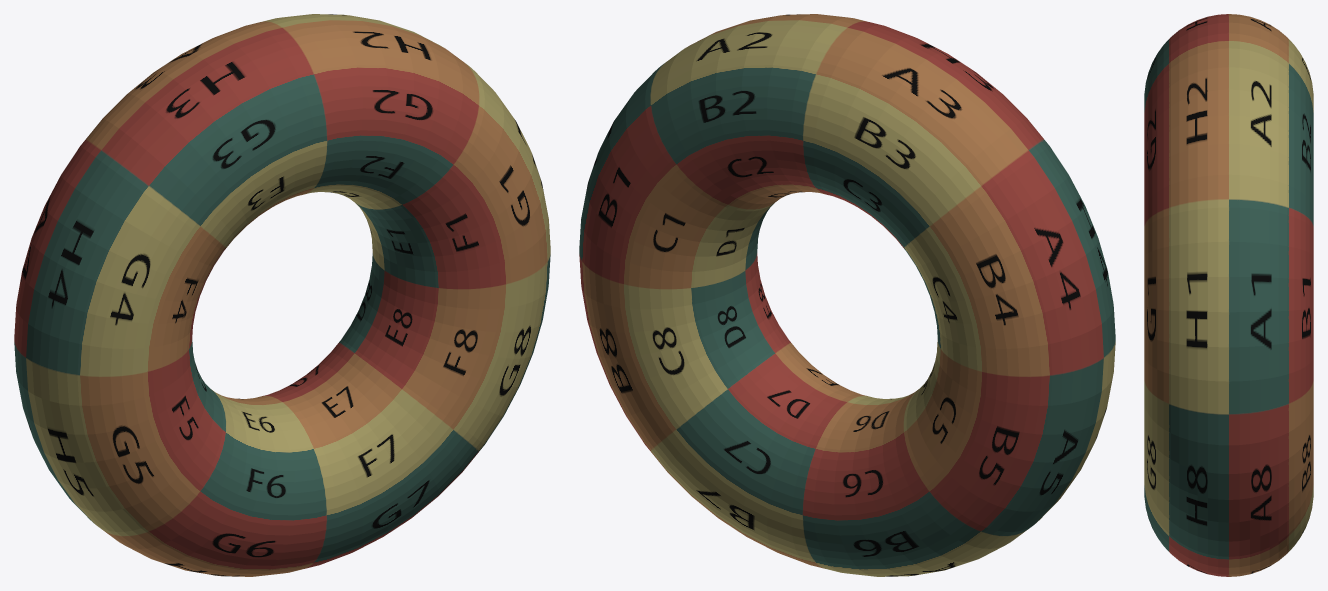
File: texture_torus_R18_r28.glb
3 views of the same model, side by side, from view 1: azimuth 30°, elevation 25°; view 2: azimuth 150°, elevation 25°; view 3: azimuth 270°, elevation 25° (orthographic). The views are drawn at different scales.
Visible parts, largest first — view 1: world; view 2: world; view 3: world.
Boxes of the visible parts, x1,y1,x2,y2 form: world: (14,14,550,576); world: (579,14,1115,576); world: (1144,14,1313,576).
Size of the model in its own units: 31.47 by 31.4 by 9.45.
1 material, 1 textured.
